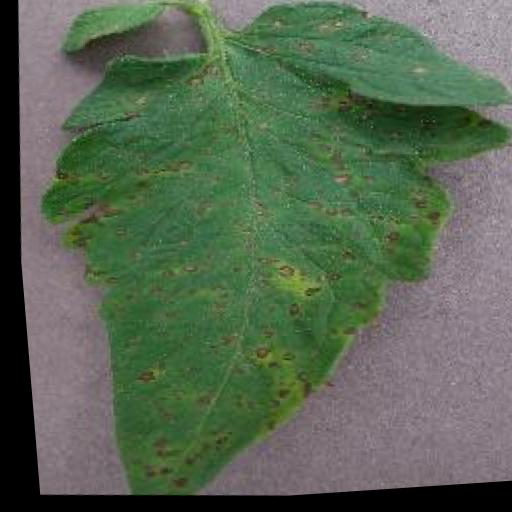Septoria: (7, 0, 512, 512)
